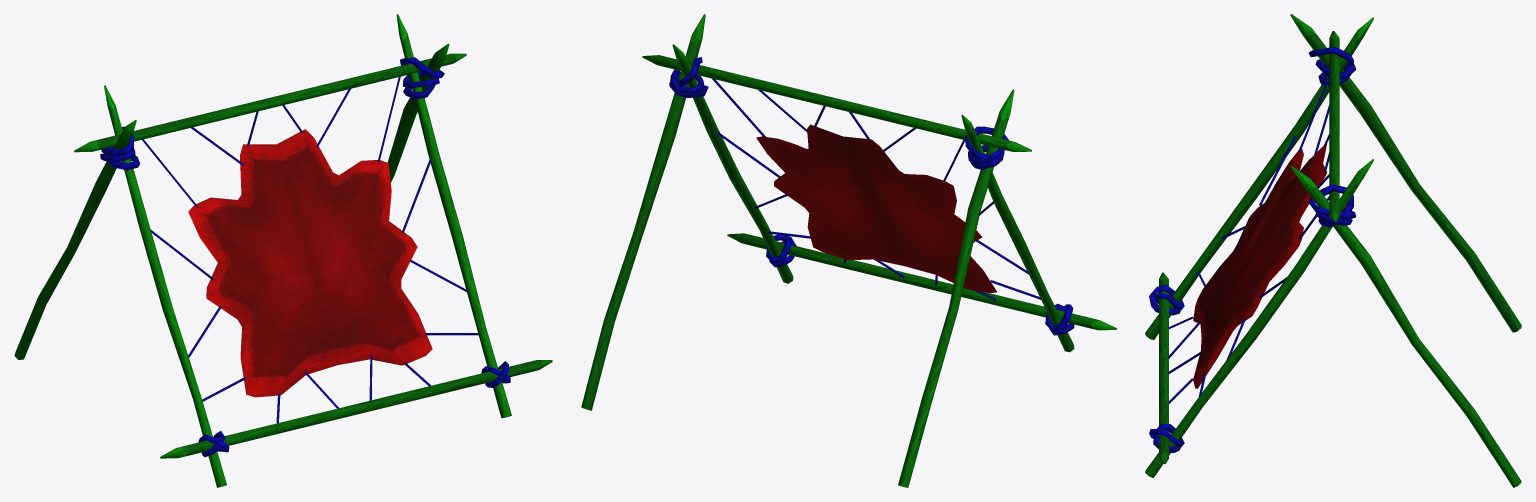
The model's file is TanningRack01.fbx.
3 views of the same model, side by side, from view 1: azimuth 30°, elevation 25°; view 2: azimuth 150°, elevation 25°; view 3: azimuth 270°, elevation 25° (orthographic).
Parts seen in each view (by area): view 1: TanningRack01_LOD0; view 2: TanningRack01_LOD0; view 3: TanningRack01_LOD0.
Part boxes in pixels (x1,y1,x2,y2): TanningRack01_LOD0: (14, 14, 552, 487); TanningRack01_LOD0: (581, 14, 1116, 487); TanningRack01_LOD0: (1145, 14, 1521, 487).
Size of what is drawn, in the model's own units: 1.71 by 1.35 by 1.43.
